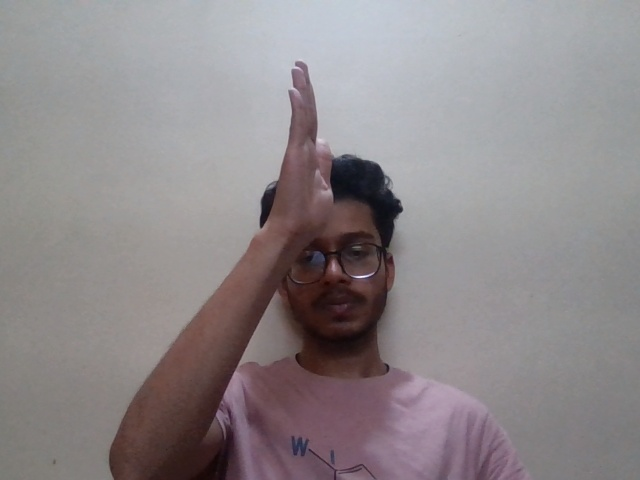fine: (235, 22, 368, 304)
